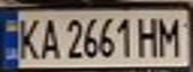1: (115, 15, 136, 58)
2: (60, 15, 84, 60)
6: (97, 15, 118, 60), (81, 15, 100, 60)
A: (36, 15, 60, 61)
H: (136, 14, 163, 58)
K: (12, 14, 42, 61)
M: (154, 12, 187, 57)
